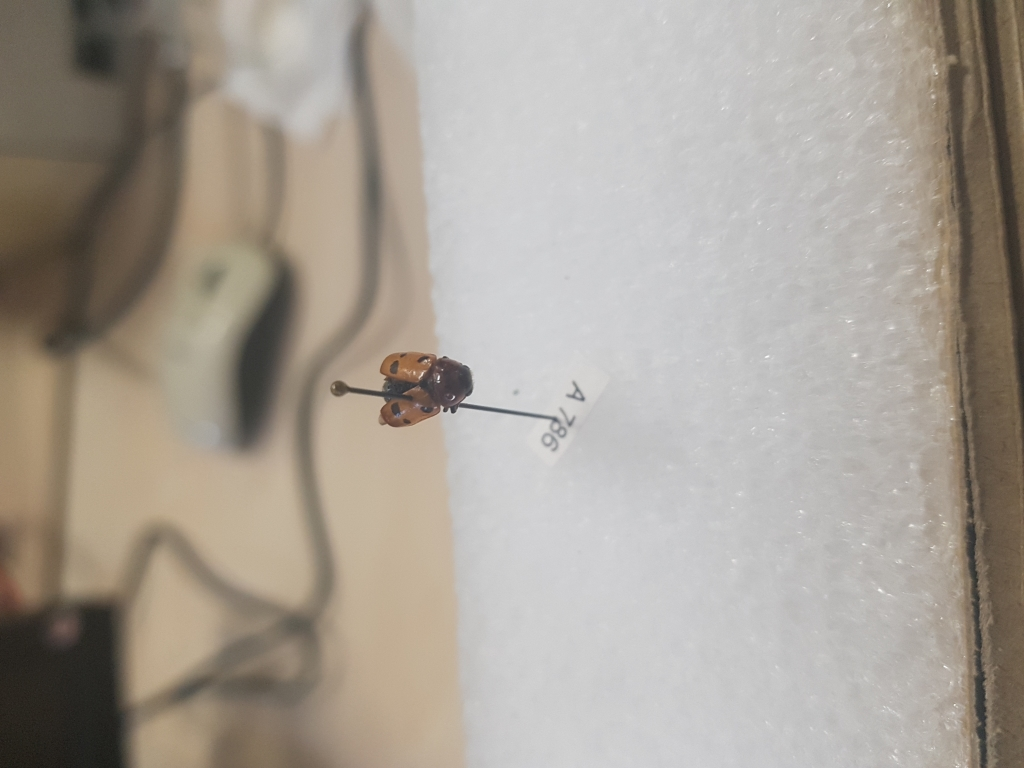Clytra_novempunctata: (375, 345, 473, 427)
